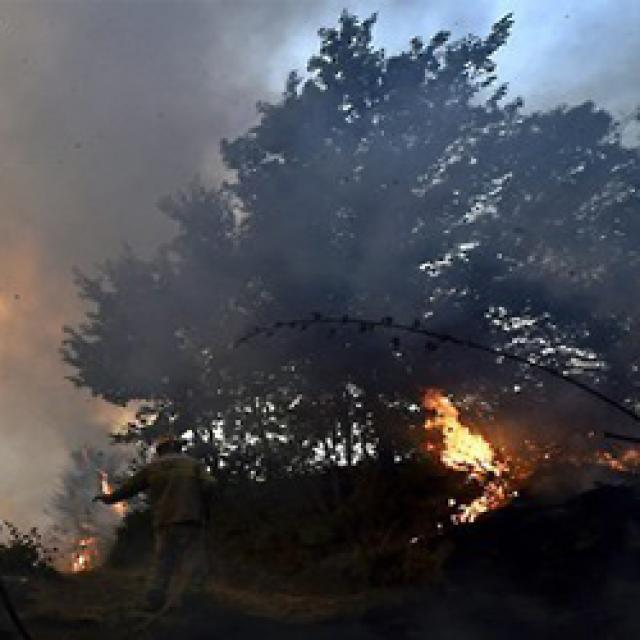Fire: (397, 373, 535, 541), (35, 426, 150, 575)
Smoke: (0, 0, 640, 302), (0, 0, 141, 454)
